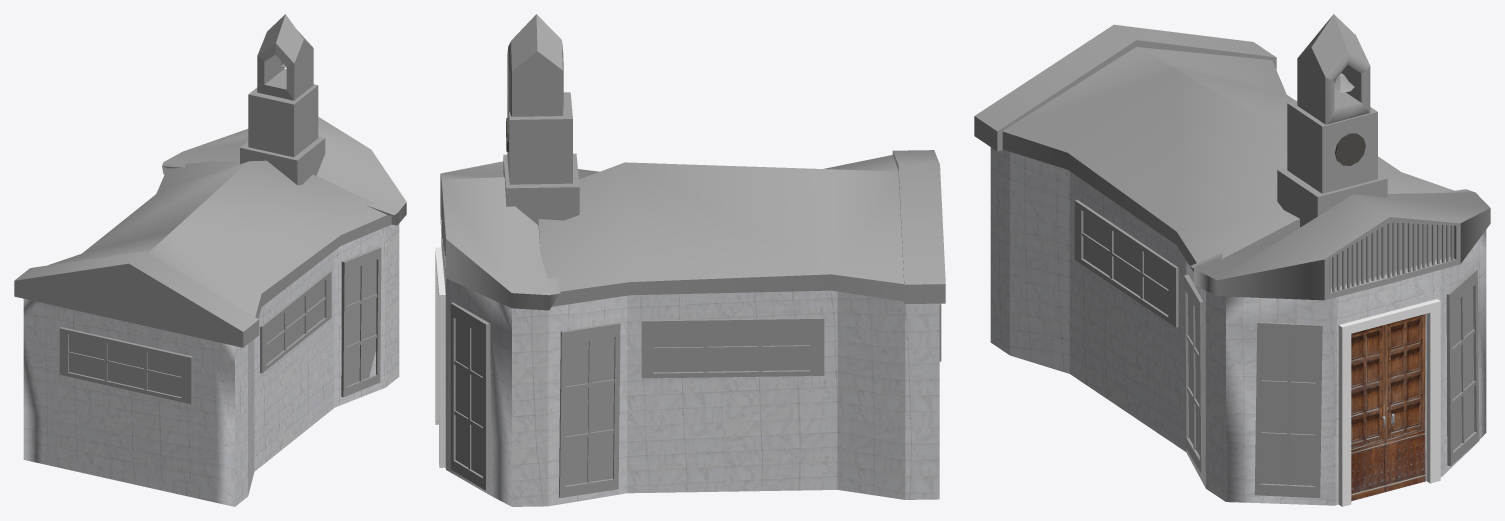
File: Townhall.fbx
The picture shows the model from 3 angles, left to right: view 1: azimuth 30°, elevation 25°; view 2: azimuth 150°, elevation 25°; view 3: azimuth 270°, elevation 25°; orthographic projection. The views are drawn at different scales.
Parts seen in each view (by area): view 1: Town_Hall:polySurface1, pCube34, pCube235 (×3), pCube234, pCube38, pCube36, pCube233, pCube35; view 2: Town_Hall:polySurface1, pCube34, pCube235 (×3), pCube38, pCube234, pCube233, pCube36, pCube35, pCube239; view 3: Town_Hall:polySurface1, pCube34, pCube235 (×4), pCube38, pCube234, pCube233, pCube36, pCube35, pCylinder70.
Boxes of the visible parts, box(x1,y1,x2,y2) form: Town_Hall:polySurface1: box(23, 224, 399, 506); pCube34: box(48, 160, 391, 318); pCube235 (×3): box(59, 247, 381, 404); pCube234: box(14, 251, 259, 347); pCube38: box(162, 117, 406, 225); pCube36: box(248, 84, 318, 157); pCube233: box(257, 14, 313, 100); pCube35: box(240, 136, 325, 185); Town_Hall:polySurface1: box(435, 240, 939, 506); pCube34: box(538, 155, 904, 306); pCube235 (×3): box(450, 302, 824, 497); pCube38: box(440, 161, 560, 310); pCube234: box(892, 150, 945, 303); pCube233: box(507, 14, 563, 116); pCube36: box(507, 92, 572, 184); pCube35: box(503, 153, 579, 224); pCube239: box(653, 345, 810, 350); Town_Hall:polySurface1: box(990, 147, 1486, 506); pCube34: box(1002, 46, 1453, 272); pCube235 (×4): box(1074, 200, 1479, 498); pCube38: box(1190, 189, 1490, 300); pCube234: box(974, 24, 1276, 151); pCube233: box(1297, 14, 1370, 124); pCube36: box(1287, 100, 1377, 193); pCube35: box(1277, 167, 1387, 227); pCylinder70: box(1335, 133, 1365, 165).
Bounding box in the file's own units: 214 × 185 × 195.
